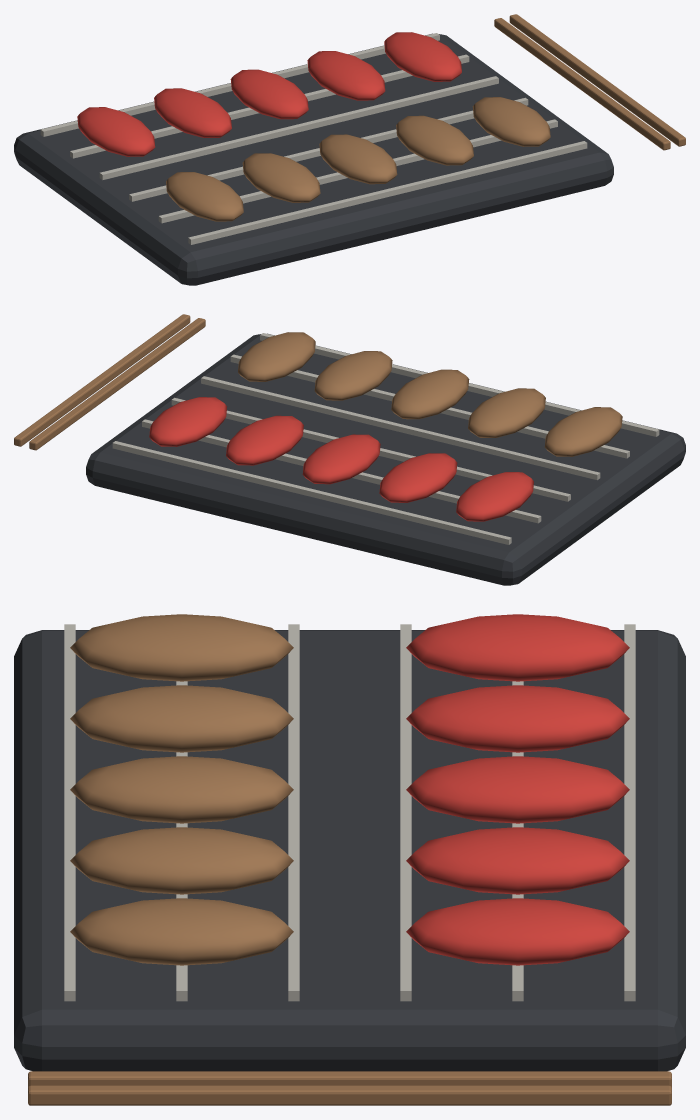
File: Gomjangeo_blockout.glb
The picture shows the model from 3 angles, top to bottom: view 1: azimuth 30°, elevation 25°; view 2: azimuth 150°, elevation 25°; view 3: azimuth 270°, elevation 25°; orthographic projection. The views are drawn at different scales.
Parts seen in each view (by area): view 1: FOOD04_Gomjangeo_Grill_L0, FOOD04_Gomjangeo_GrillBar3_L0, FOOD04_Gomjangeo_GrillBar0_L0, FOOD04_Gomjangeo_GrilledPiece2_L0, FOOD04_Gomjangeo_GrilledPiece7_L0, FOOD04_Gomjangeo_GrilledPiece3_L0, FOOD04_Gomjangeo_GrilledPiece1_L0, FOOD04_Gomjangeo_GrilledPiece8_L0, FOOD04_Gomjangeo_GrilledPiece5_L0, FOOD04_Gomjangeo_GrilledPiece4_L0, FOOD04_Gomjangeo_GrilledPiece9_L0, FOOD04_Gomjangeo_GrilledPiece6_L0 (+7 smaller); view 2: FOOD04_Gomjangeo_Grill_L0, FOOD04_Gomjangeo_GrillBar2_L0, FOOD04_Gomjangeo_GrillBar5_L0, FOOD04_Gomjangeo_GrilledPiece7_L0, FOOD04_Gomjangeo_GrilledPiece2_L0, FOOD04_Gomjangeo_GrilledPiece8_L0, FOOD04_Gomjangeo_GrilledPiece3_L0, FOOD04_Gomjangeo_GrilledPiece6_L0, FOOD04_Gomjangeo_GrilledPiece0_L0, FOOD04_Gomjangeo_GrilledPiece9_L0, FOOD04_Gomjangeo_GrilledPiece4_L0, FOOD04_Gomjangeo_GrilledPiece1_L0 (+7 smaller); view 3: FOOD04_Gomjangeo_Grill_L0, FOOD04_Gomjangeo_Chopstick1_L0, FOOD04_Gomjangeo_GrilledPiece0_L0, FOOD04_Gomjangeo_GrilledPiece1_L0, FOOD04_Gomjangeo_GrilledPiece2_L0, FOOD04_Gomjangeo_GrilledPiece3_L0, FOOD04_Gomjangeo_GrilledPiece4_L0, FOOD04_Gomjangeo_GrilledPiece5_L0, FOOD04_Gomjangeo_GrilledPiece6_L0, FOOD04_Gomjangeo_GrilledPiece7_L0, FOOD04_Gomjangeo_GrilledPiece8_L0, FOOD04_Gomjangeo_GrilledPiece9_L0 (+5 smaller).
Part boxes in pixels (x1,y1,x2,y2): FOOD04_Gomjangeo_Grill_L0: [14, 33, 613, 285]; FOOD04_Gomjangeo_GrillBar3_L0: [99, 76, 498, 180]; FOOD04_Gomjangeo_GrillBar0_L0: [188, 141, 587, 244]; FOOD04_Gomjangeo_GrilledPiece2_L0: [319, 134, 397, 184]; FOOD04_Gomjangeo_GrilledPiece7_L0: [230, 69, 308, 119]; FOOD04_Gomjangeo_GrilledPiece3_L0: [396, 115, 473, 165]; FOOD04_Gomjangeo_GrilledPiece1_L0: [242, 153, 320, 202]; FOOD04_Gomjangeo_GrilledPiece8_L0: [307, 51, 385, 100]; FOOD04_Gomjangeo_GrilledPiece5_L0: [77, 107, 155, 156]; FOOD04_Gomjangeo_GrilledPiece4_L0: [472, 97, 550, 146]; FOOD04_Gomjangeo_GrilledPiece9_L0: [384, 32, 461, 81]; FOOD04_Gomjangeo_GrilledPiece6_L0: [154, 88, 231, 137]; FOOD04_Gomjangeo_Grill_L0: [86, 333, 685, 585]; FOOD04_Gomjangeo_GrillBar2_L0: [201, 376, 600, 480]; FOOD04_Gomjangeo_GrillBar5_L0: [112, 441, 511, 544]; FOOD04_Gomjangeo_GrilledPiece7_L0: [302, 434, 380, 484]; FOOD04_Gomjangeo_GrilledPiece2_L0: [391, 369, 469, 419]; FOOD04_Gomjangeo_GrilledPiece8_L0: [226, 415, 303, 465]; FOOD04_Gomjangeo_GrilledPiece3_L0: [314, 351, 392, 400]; FOOD04_Gomjangeo_GrilledPiece6_L0: [379, 453, 457, 502]; FOOD04_Gomjangeo_GrilledPiece0_L0: [544, 407, 622, 456]; FOOD04_Gomjangeo_GrilledPiece9_L0: [149, 397, 227, 446]; FOOD04_Gomjangeo_GrilledPiece4_L0: [238, 332, 315, 381]; FOOD04_Gomjangeo_GrilledPiece1_L0: [468, 388, 545, 437]; FOOD04_Gomjangeo_Grill_L0: [14, 630, 685, 1071]; FOOD04_Gomjangeo_Chopstick1_L0: [28, 1085, 671, 1105]; FOOD04_Gomjangeo_GrilledPiece0_L0: [70, 614, 293, 681]; FOOD04_Gomjangeo_GrilledPiece1_L0: [70, 685, 293, 752]; FOOD04_Gomjangeo_GrilledPiece2_L0: [70, 756, 293, 823]; FOOD04_Gomjangeo_GrilledPiece3_L0: [70, 827, 293, 894]; FOOD04_Gomjangeo_GrilledPiece4_L0: [70, 898, 293, 965]; FOOD04_Gomjangeo_GrilledPiece5_L0: [406, 614, 629, 681]; FOOD04_Gomjangeo_GrilledPiece6_L0: [406, 685, 629, 752]; FOOD04_Gomjangeo_GrilledPiece7_L0: [406, 756, 629, 823]; FOOD04_Gomjangeo_GrilledPiece8_L0: [406, 827, 629, 894]; FOOD04_Gomjangeo_GrilledPiece9_L0: [406, 898, 629, 965].
Bounding box in the file's own units: 0.395 × 0.046 × 0.24.
